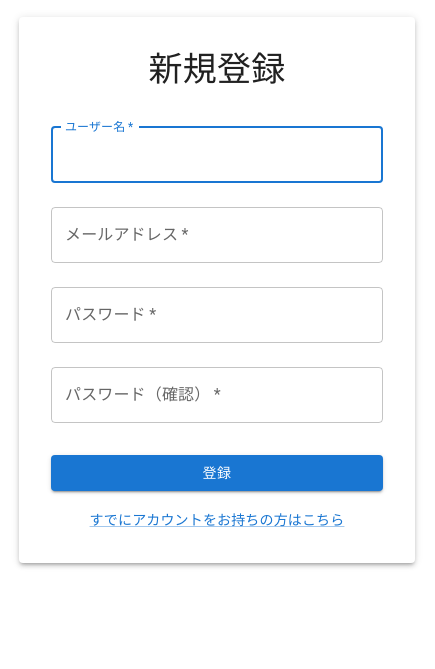
Test case: Register › shows success message and navigates to login on successful registration
In the field named "username": [217, 155] box [51,127,383,183], type "testuser"
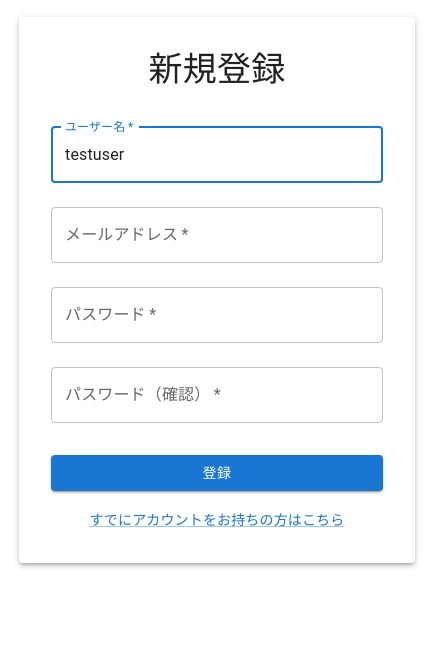
In the field named "email": [217, 235] box [51,207,383,263], type "test@example.com"
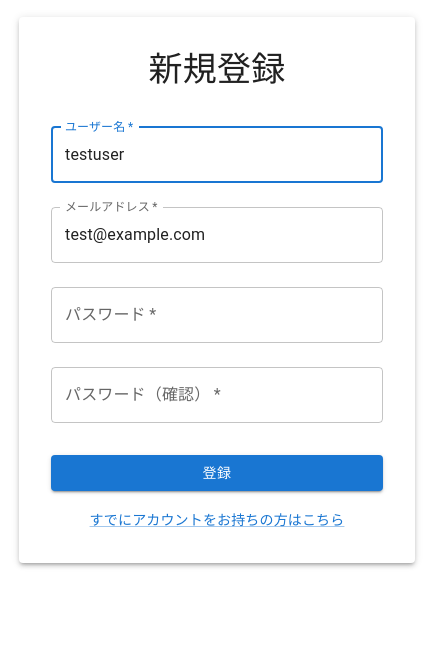
In the password field named "password": [217, 315] box [51,287,383,343], type "password123"
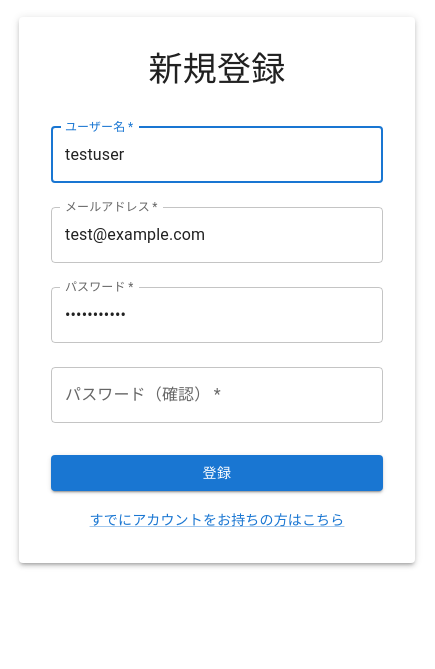
In the password field named "confirmPassword": [217, 395] box [51,367,383,423], type "password123"
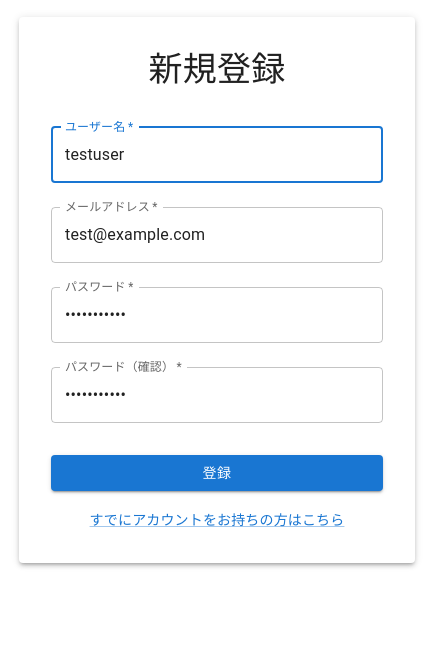
Click the button "登録": [217, 473] box [51,455,383,491]
Wait 2000 ms
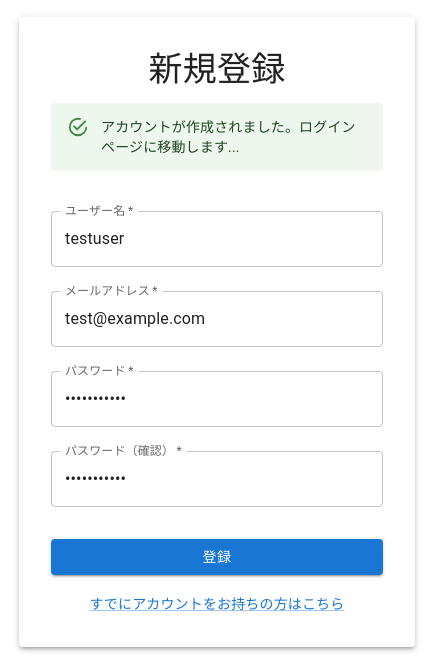
Check: the text "アカウントが作成されました。ログインページに移動します..." is shown, box [101,109,367,165]
